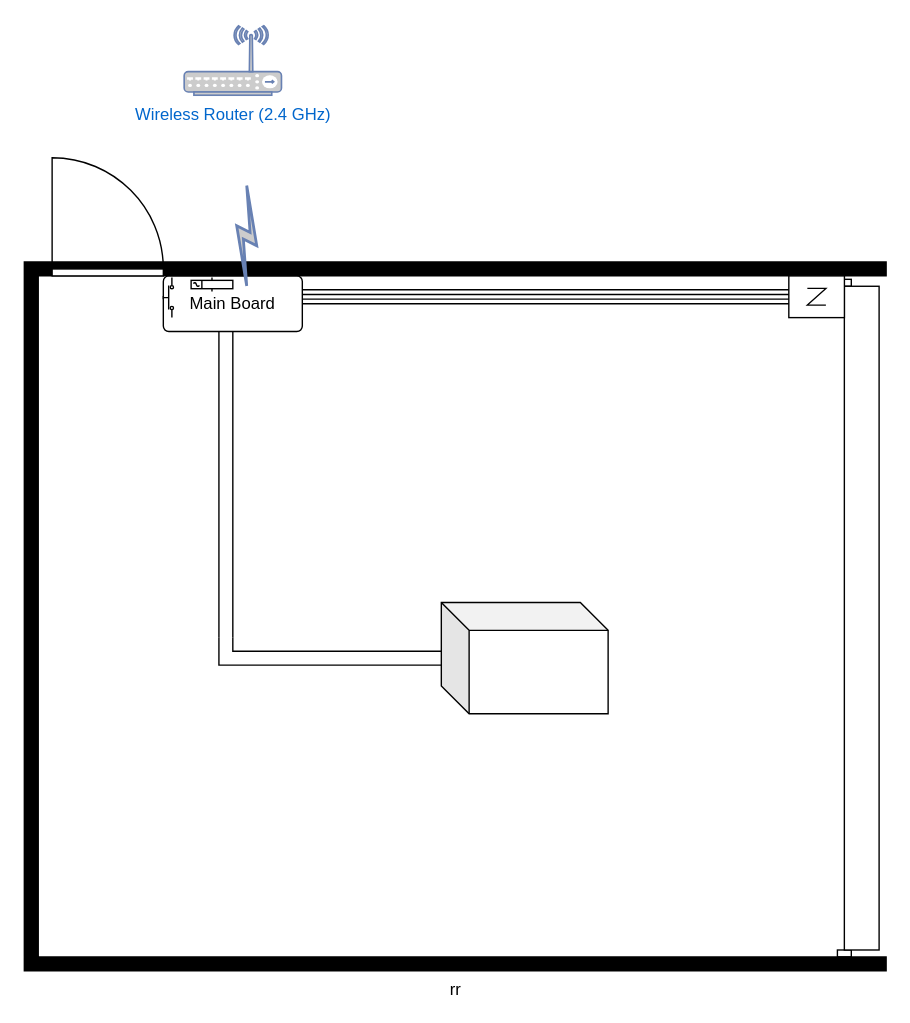
The diagram is 910 pixels wide and 1023 high, and some of its shapes have lost their labels. Here are the shapes that lost their labels. From the top down, the box of each, then its label:
(787, 275, 844, 318): Hall Effect Sensor
(440, 601, 608, 714): Door Opener
